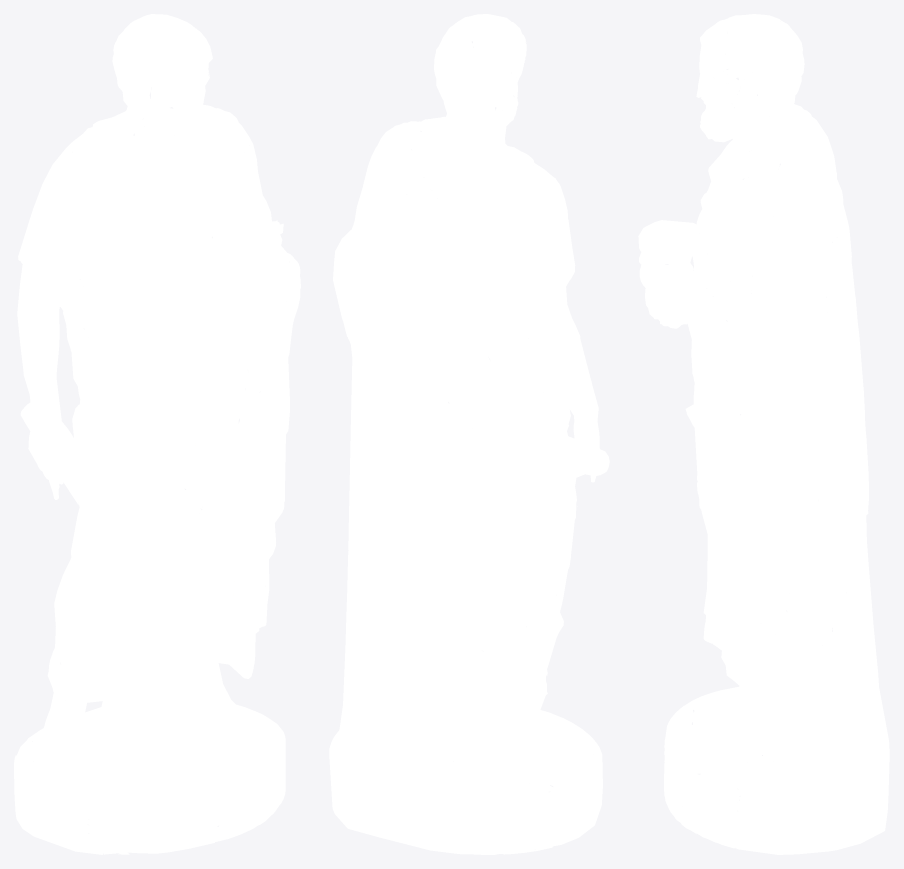
Rendered from statue.glb.
3 renders of one model, left to right at view 1: azimuth 30°, elevation 25°; view 2: azimuth 150°, elevation 25°; view 3: azimuth 270°, elevation 25°, orthographic. The views are drawn at different scales.
Visible parts, largest first — view 1: Object_6, Object_5, Object_7, Object_9, Object_8; view 2: Object_8, Object_7, Object_9, Object_6, Object_5; view 3: Object_8, Object_7, Object_6, Object_9, Object_5.
Boxes of the visible parts, x1=… form: Object_6: x1=48, y1=16, x2=300, y2=827; Object_5: x1=78, y1=28, x2=300, y2=854; Object_7: x1=14, y1=26, x2=290, y2=854; Object_9: x1=21, y1=16, x2=286, y2=854; Object_8: x1=14, y1=14, x2=285, y2=848; Object_8: x1=329, y1=16, x2=589, y2=854; Object_7: x1=344, y1=14, x2=602, y2=854; Object_9: x1=348, y1=14, x2=599, y2=804; Object_6: x1=409, y1=14, x2=600, y2=767; Object_5: x1=408, y1=20, x2=609, y2=791; Object_8: x1=726, y1=20, x2=889, y2=854; Object_7: x1=664, y1=27, x2=870, y2=795; Object_6: x1=670, y1=14, x2=789, y2=830; Object_9: x1=679, y1=14, x2=796, y2=848; Object_5: x1=638, y1=19, x2=758, y2=848.
Size of the model in its own units: 0.6393 by 1.9 by 0.5532.
Materials: 1 (1 with a texture image).
